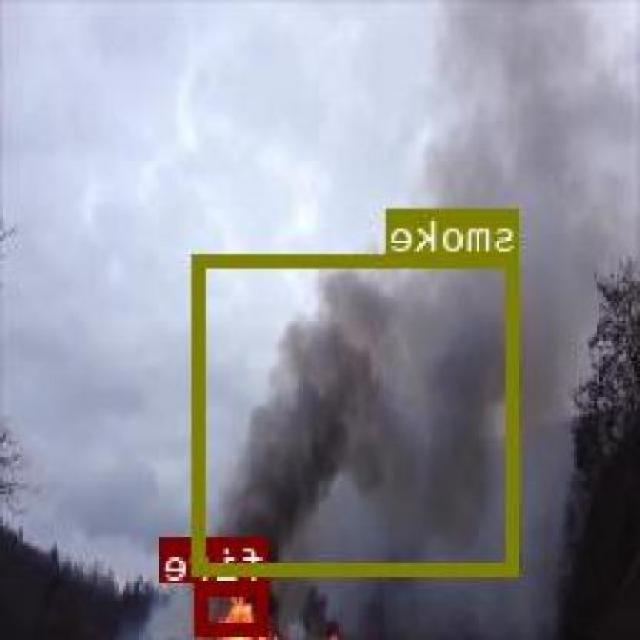Fire: (199, 580, 272, 634)
Smoke: (194, 252, 520, 574)
